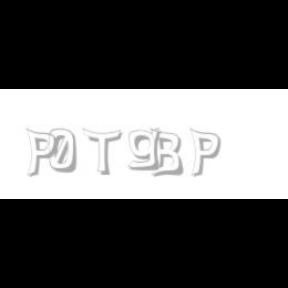0: (48, 128, 79, 174)
B: (149, 128, 183, 178)
P: (25, 128, 57, 178), (189, 128, 221, 178)
T: (82, 128, 122, 176)
g: (128, 128, 164, 171)
